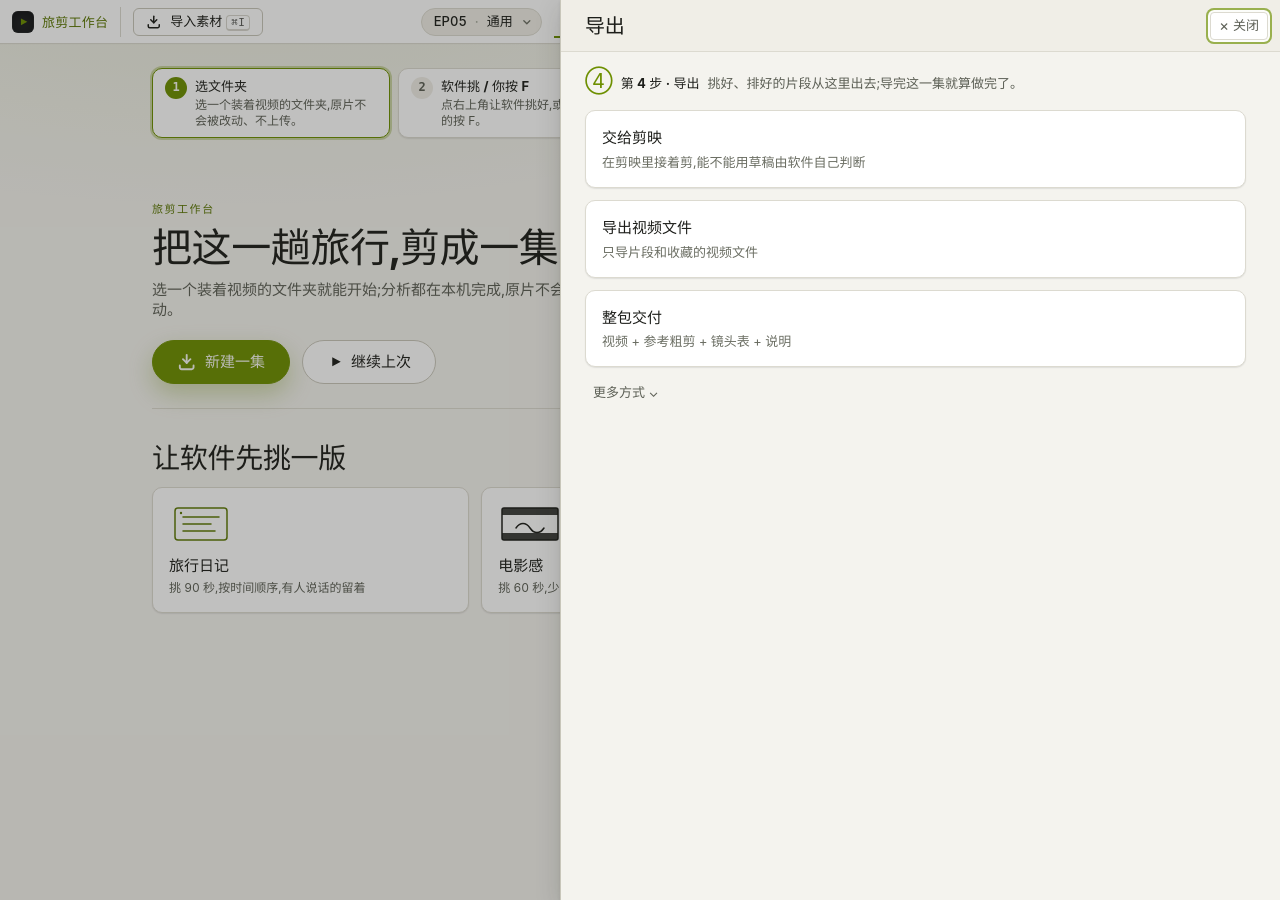
Test case: 交付抽屉首屏三卡(U-06/P-04) › 剪映可用时点「交给剪映」落在剪映草稿(完整交付包表单 + 草稿强制),不弹 toast
Click the button "交给剪映 在剪映里接着剪,能不能用草稿由软件自己判断" at (632, 138), box top-left (585, 110), bottom-right (1246, 188)
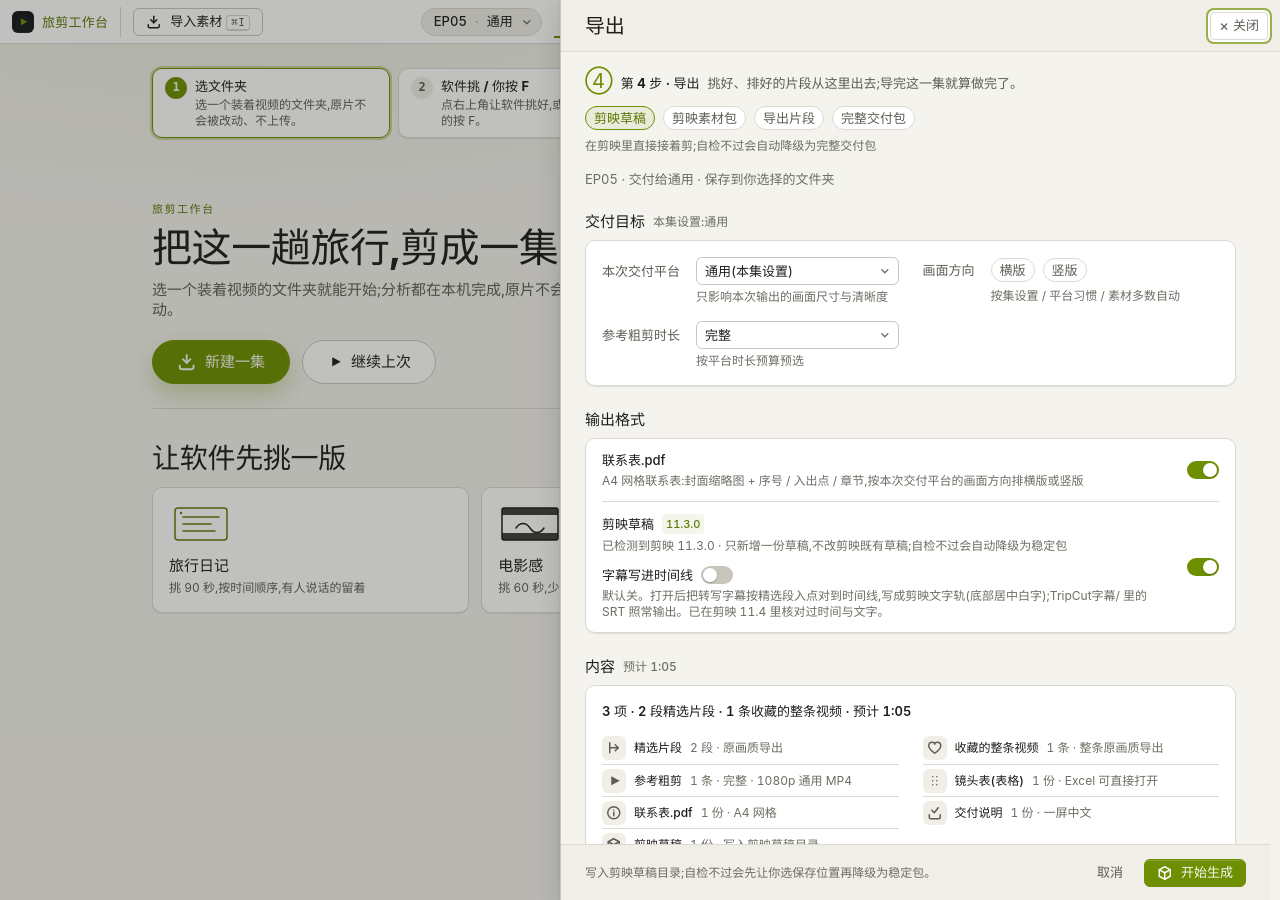
Now the text "本次交付平台" is shown, box top-left (602, 262), bottom-right (680, 280)
